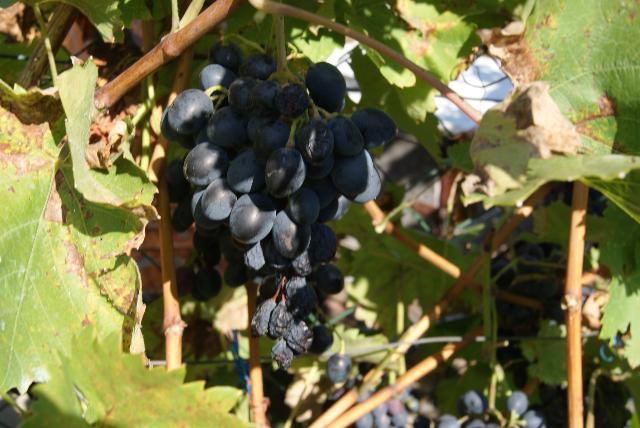grapes: (166, 41, 396, 370)
